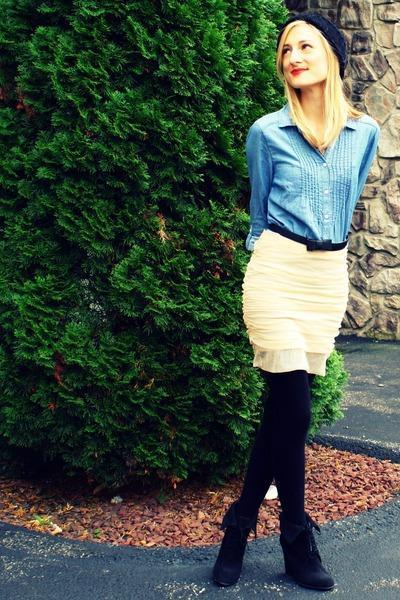hat: (276, 0, 359, 59)
shirt: (235, 108, 379, 250)
shoe: (208, 504, 333, 592)
skirt: (242, 230, 356, 376)
